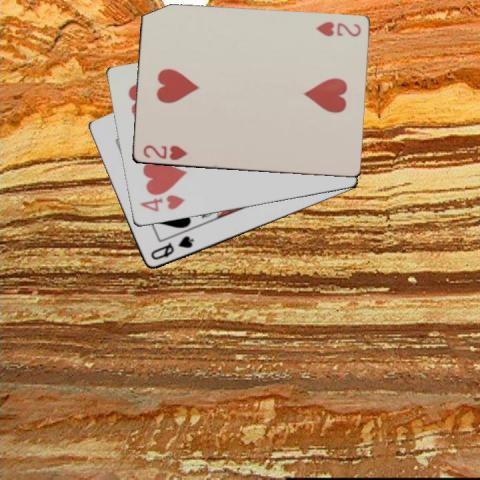2h: (312, 18, 362, 38), (140, 142, 188, 162)
4h: (137, 194, 186, 214)
Qs: (148, 233, 196, 262)
